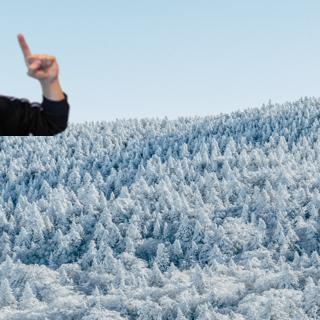IRRITATED: (13, 31, 61, 83)
